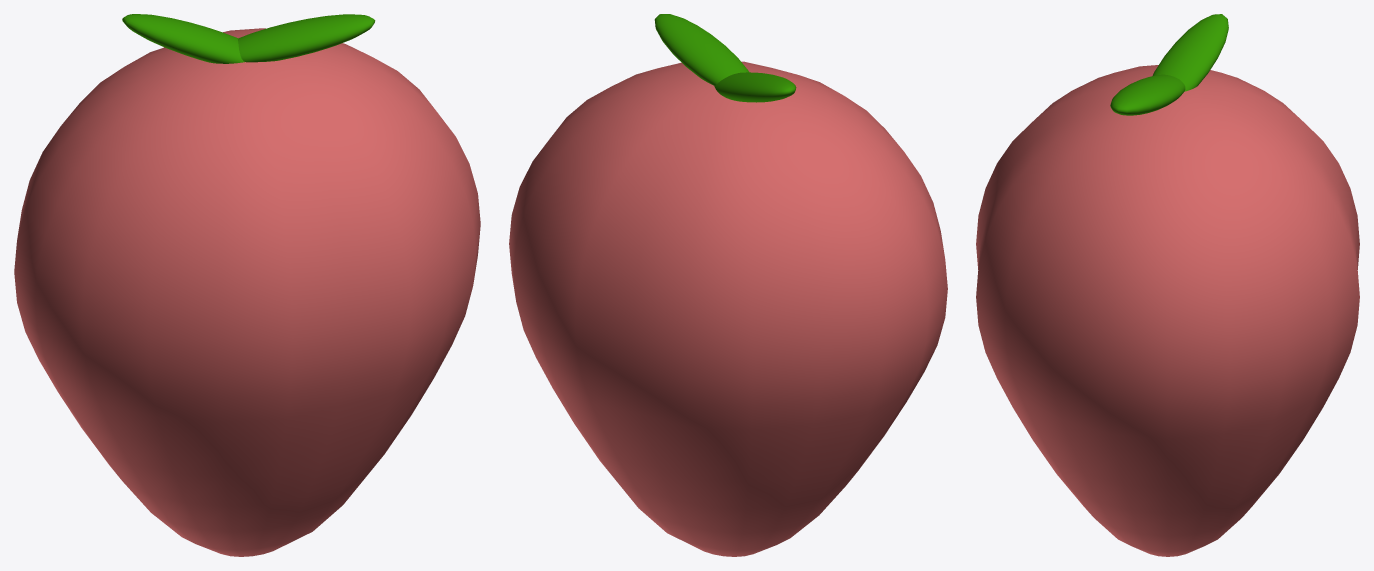
The model's file is Strawberry_export.fbx.
3 views of the same model, side by side, from view 1: azimuth 30°, elevation 25°; view 2: azimuth 150°, elevation 25°; view 3: azimuth 270°, elevation 25° (orthographic). The views are drawn at different scales.
Visible parts, largest first — view 1: pSphere1, pSphere3, pSphere2; view 2: pSphere1, pSphere3, pSphere2; view 3: pSphere1, pSphere2, pSphere3.
Part boxes in pixels (x1,y1,x2,y2): pSphere1: (14,28,480,556); pSphere3: (238,14,375,62); pSphere2: (122,14,244,63); pSphere1: (509,61,947,556); pSphere3: (654,14,748,85); pSphere2: (714,72,796,102); pSphere1: (976,65,1359,556); pSphere2: (1152,14,1228,91); pSphere3: (1110,74,1185,115).
Size of the model in its own units: 10.19 by 12.27 by 8.65.
